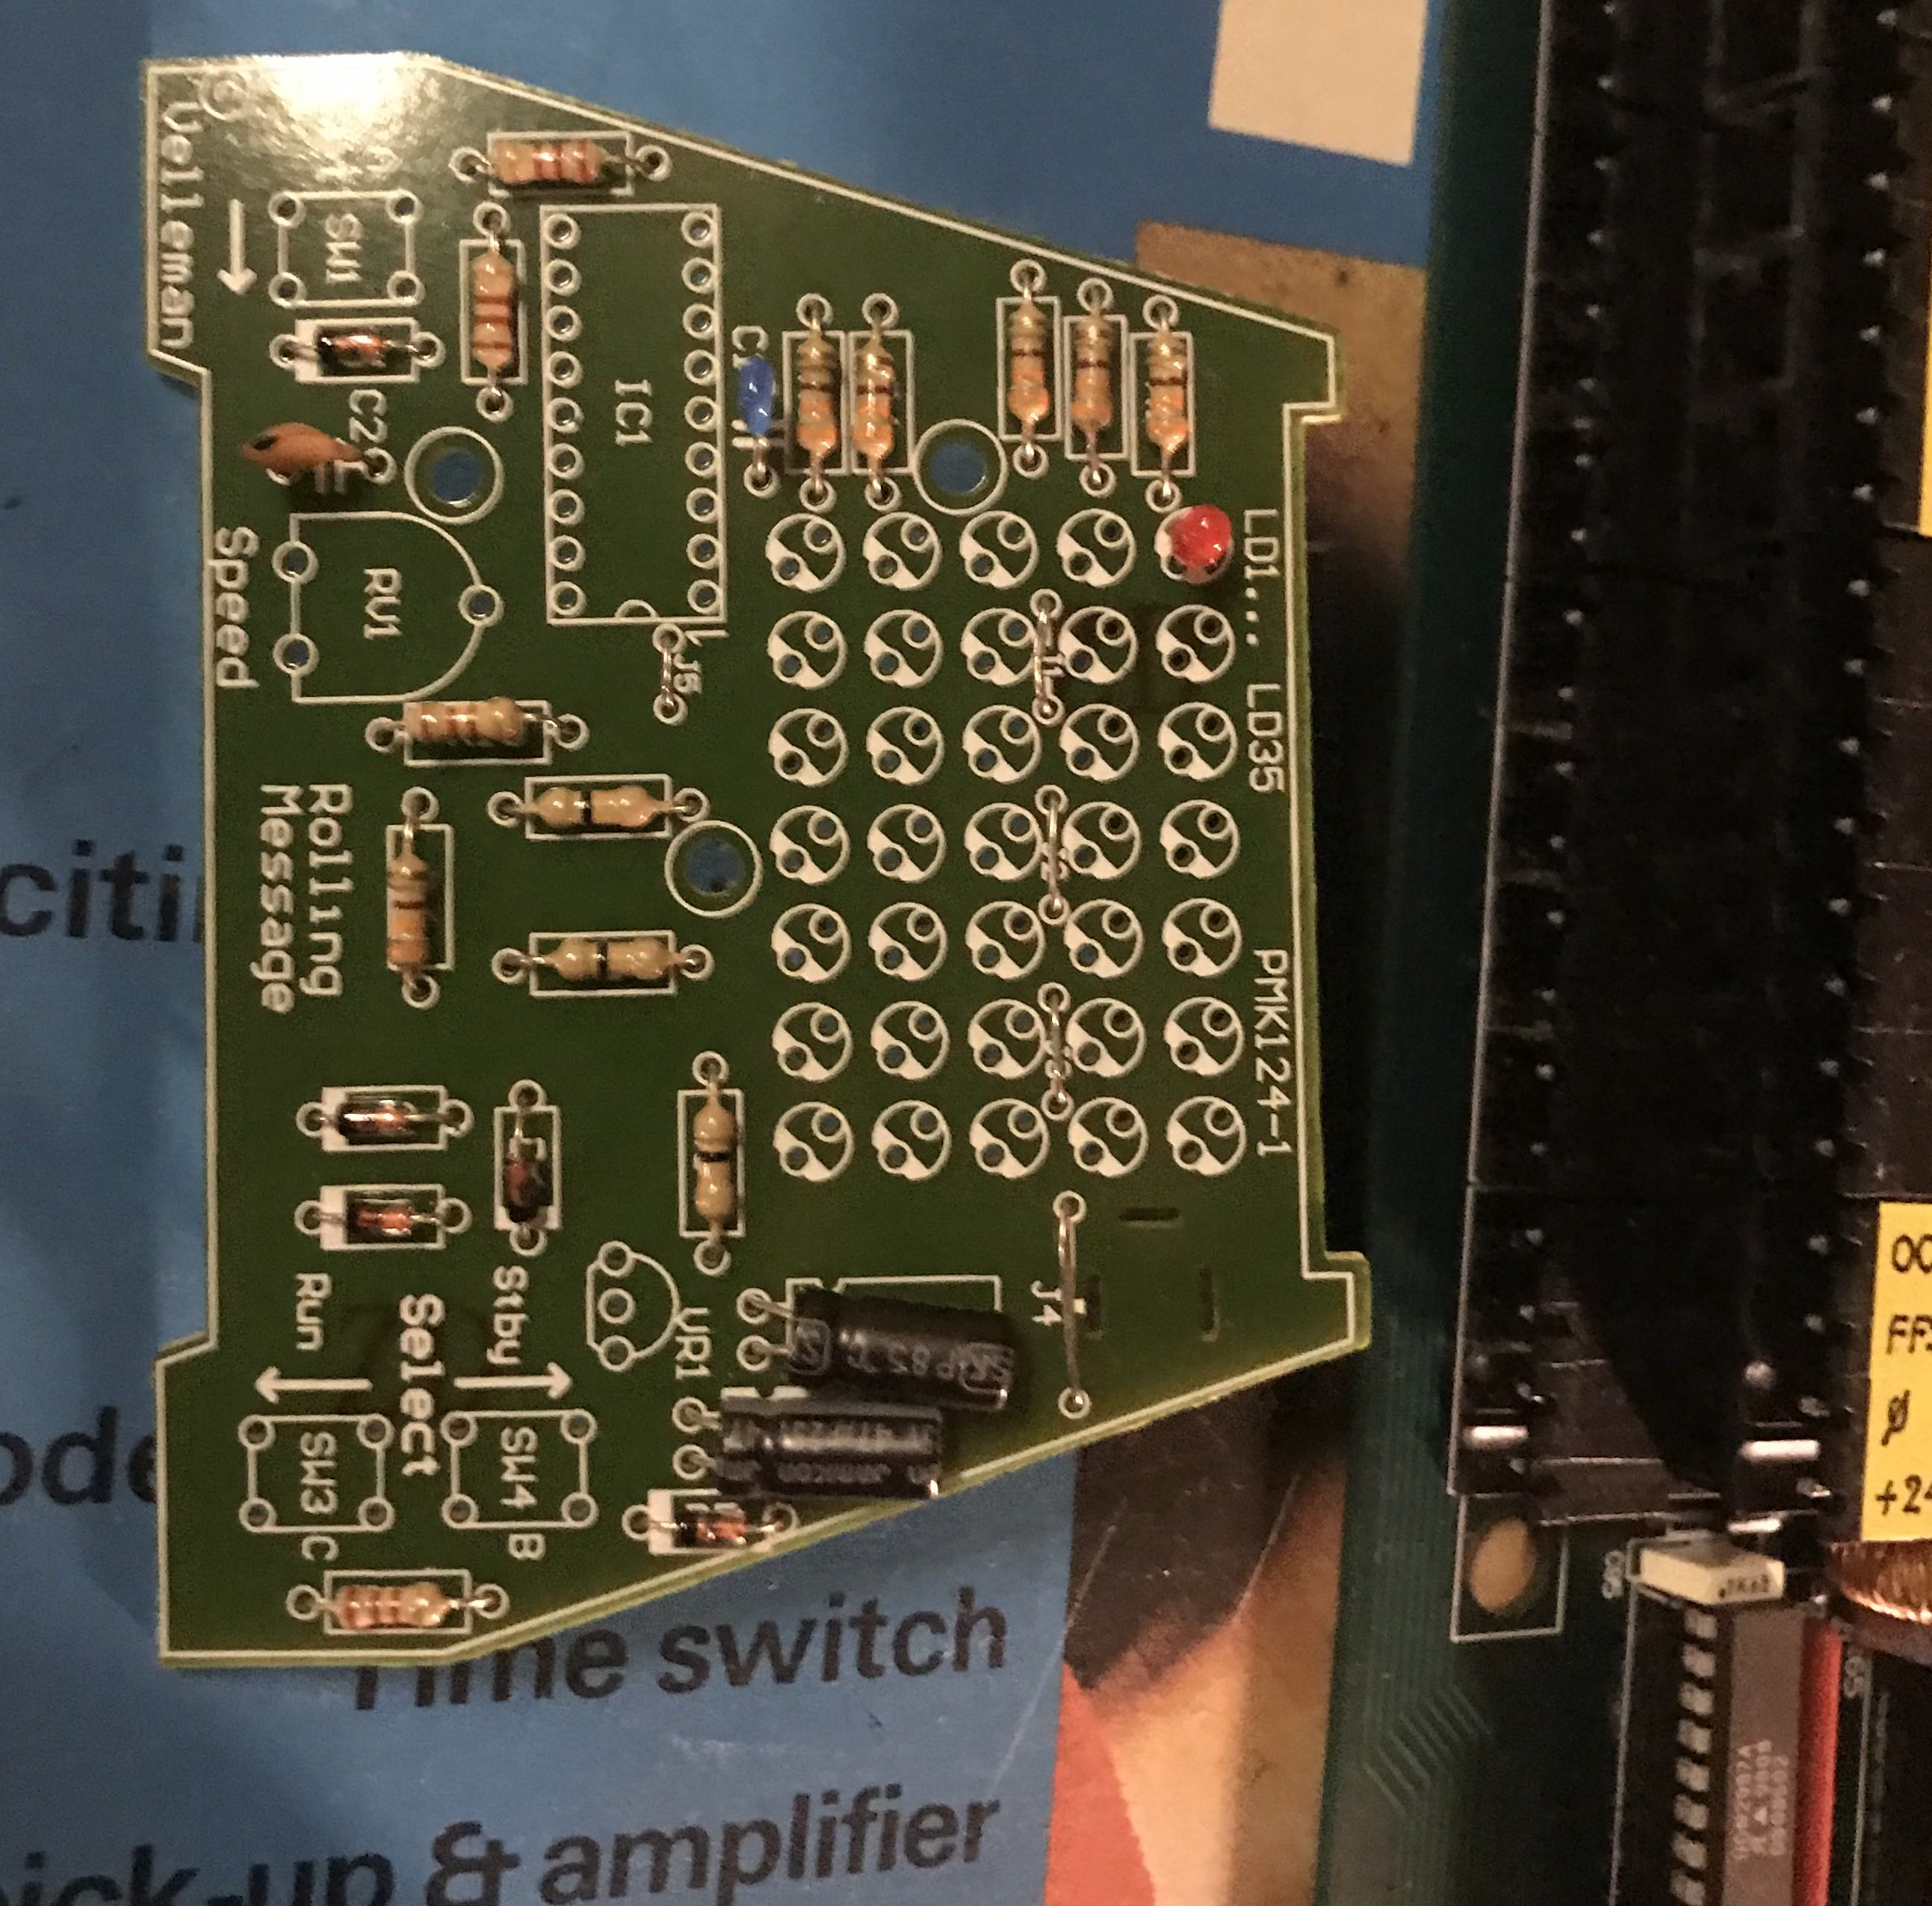Capacitor: (775, 1278, 1021, 1421), (702, 1391, 951, 1506)
Diode: (326, 1091, 440, 1143), (489, 1138, 550, 1234), (328, 1192, 443, 1241), (297, 326, 407, 374), (663, 1506, 759, 1553)
LED: (1164, 501, 1230, 572)
Resistor: (375, 833, 442, 981), (682, 1091, 745, 1234), (541, 930, 686, 990), (389, 698, 543, 754), (482, 134, 634, 190), (462, 246, 525, 379), (330, 1578, 462, 1634), (525, 784, 668, 834), (852, 339, 908, 468), (789, 332, 838, 471), (1141, 328, 1194, 456), (1007, 302, 1052, 436), (1070, 312, 1117, 438)
